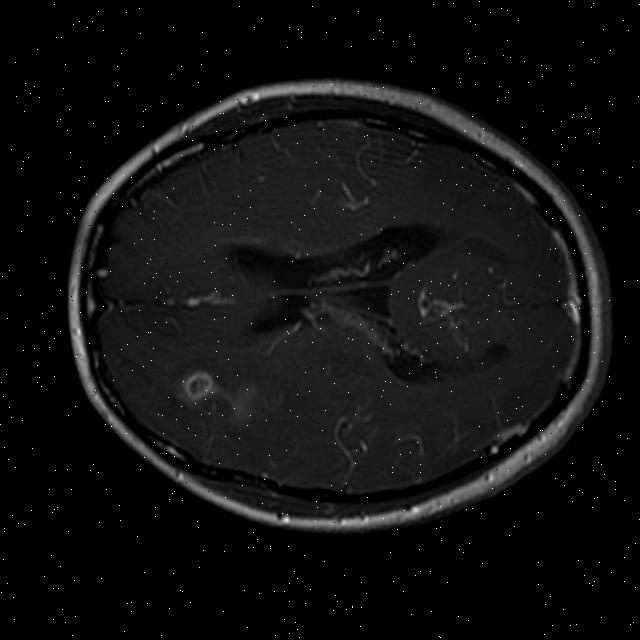Glioma: (182, 367, 215, 401)
